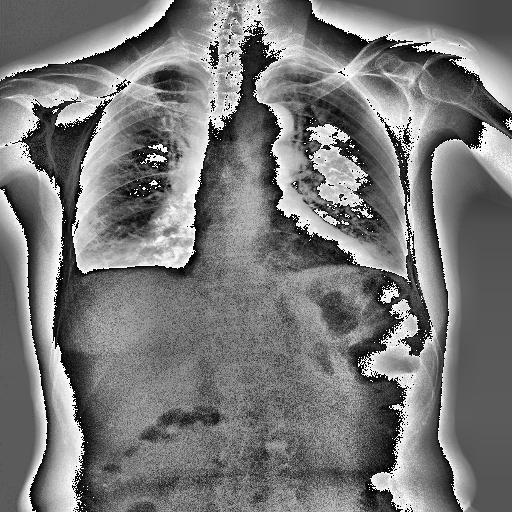0- Aortic enlargement: (244, 100, 294, 146), (249, 102, 293, 138)
10- Pleural effusion: (60, 254, 108, 296), (64, 251, 98, 295), (58, 258, 90, 290)
11- Pleural thickening: (64, 251, 98, 295), (58, 258, 90, 290), (290, 53, 337, 69), (292, 51, 332, 68)
3- Cardiomegaly: (184, 230, 375, 284), (182, 244, 379, 281), (176, 248, 380, 278)
7- Lung Opacity: (123, 240, 188, 266)
9- Other lesion: (123, 240, 188, 266)
